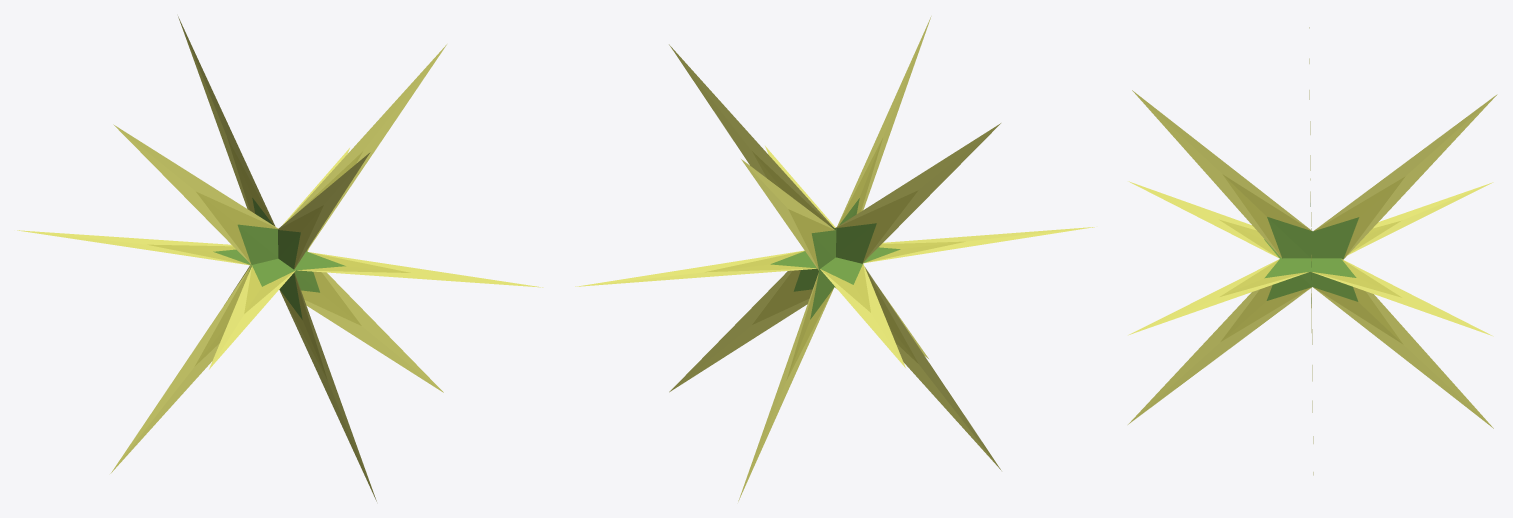
The model's file is HitEffect.FBX.
3 views of the same model, side by side, from view 1: azimuth 30°, elevation 25°; view 2: azimuth 150°, elevation 25°; view 3: azimuth 270°, elevation 25° (orthographic). The views are drawn at different scales.
Parts seen in each view (by area): view 1: VIFS003, VIFS002, VIFS001; view 2: VIFS003, VIFS002, VIFS001; view 3: VIFS003, VIFS002, VIFS001.
Boxes of the visible parts, box(x1,y1,x2,y2) form: VIFS003: box(17, 16, 543, 501); VIFS002: box(147, 137, 410, 380); VIFS001: box(213, 198, 345, 319); VIFS003: box(575, 16, 1094, 501); VIFS002: box(705, 138, 965, 380); VIFS001: box(770, 198, 900, 319); VIFS003: box(1128, 27, 1497, 475); VIFS002: box(1219, 174, 1405, 344); VIFS001: box(1264, 203, 1359, 303).
Bounding box in the file's own units: 0.853 × 0.859 × 0.858.
